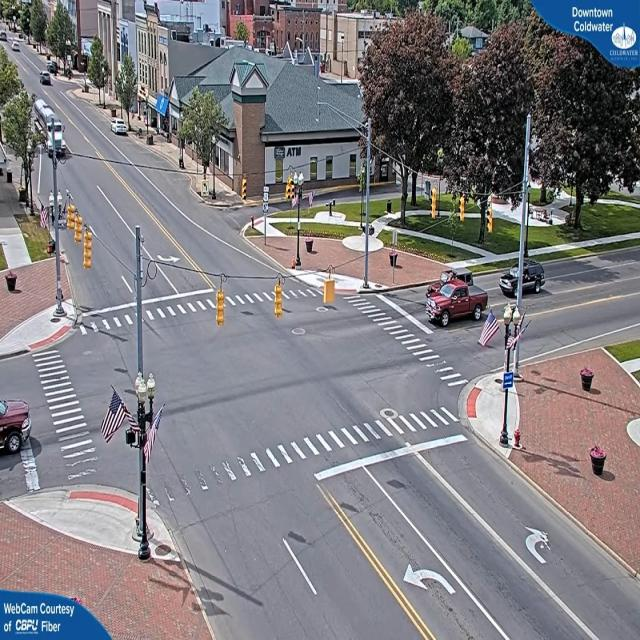car: (425, 276, 490, 327), (497, 256, 549, 299), (112, 122, 131, 138), (42, 72, 54, 86), (12, 44, 22, 53)
